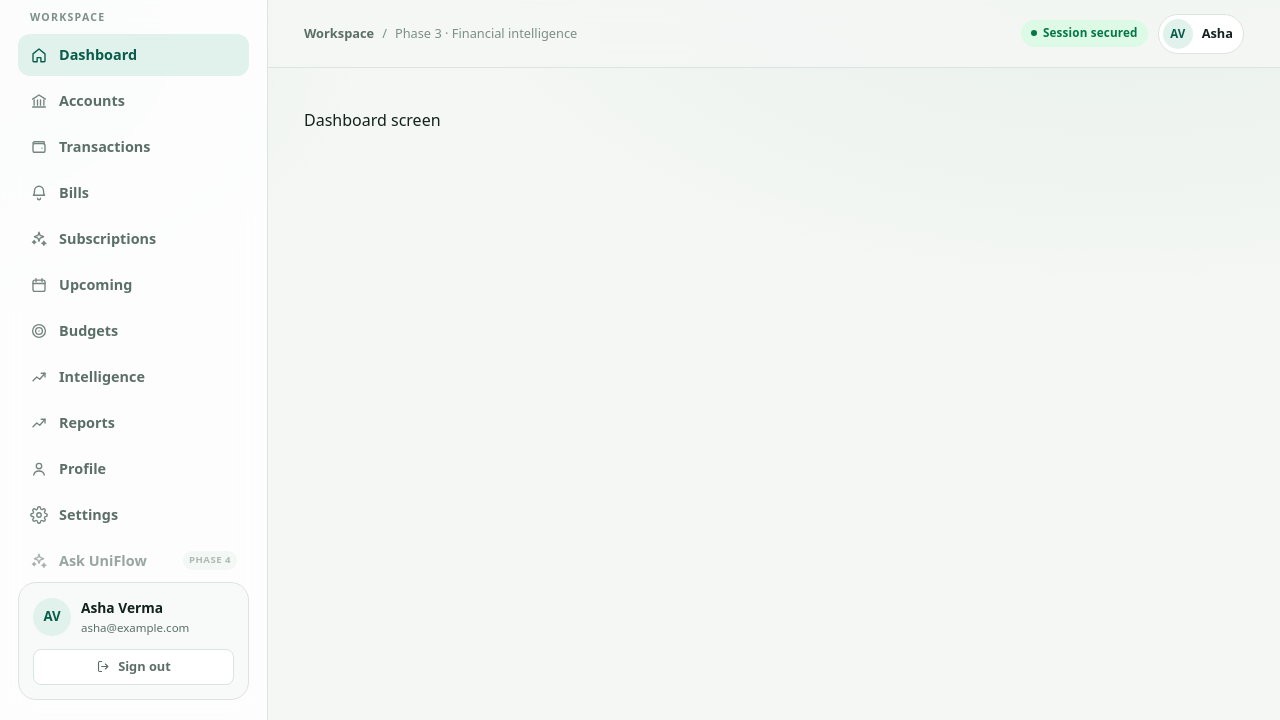
Test: app shell sign-out › keeps the session and shows an error when revocation fails
This screenshot has width=1280, height=720.
(page scrolled)
Click the button "Sign out" at x=134, y=667, box [33,649,234,685]
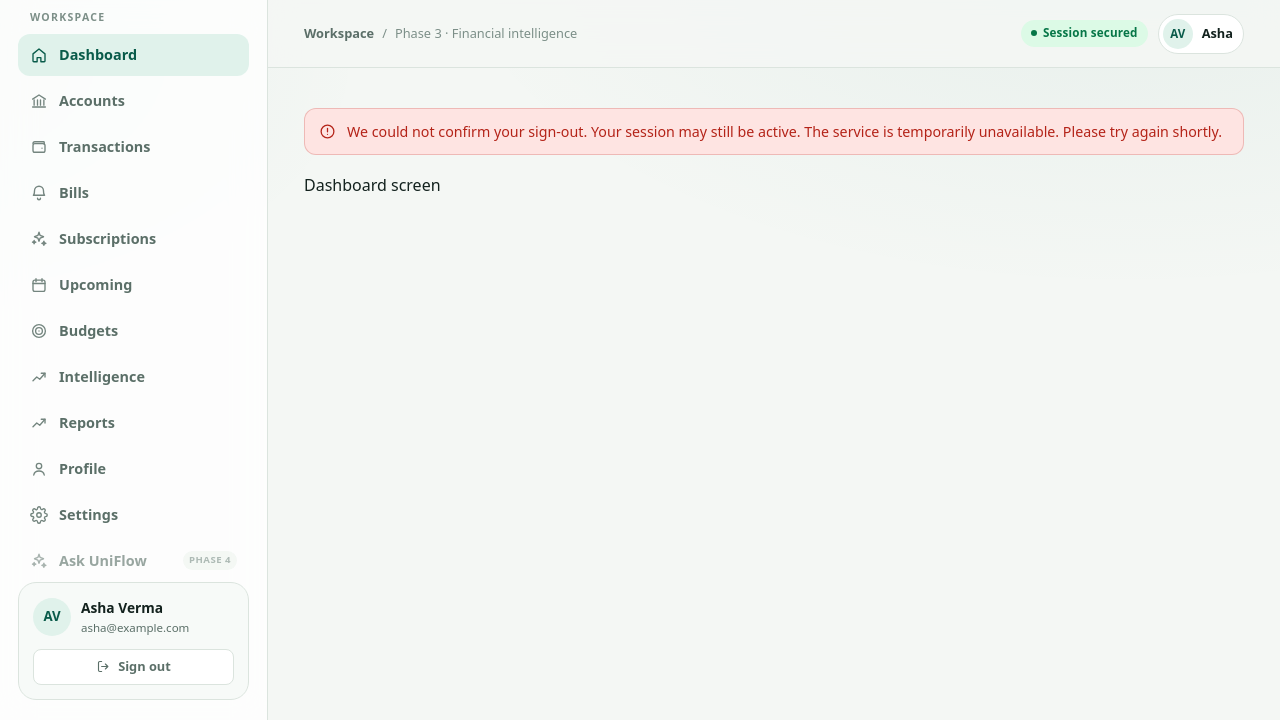
Expected: the message shows "We could not confirm your sign-out.", [347,122,1222,141]
Expected: the message shows "Your session may still be active.", [347,122,1222,141]
Expected: the message shows "The service is temporarily unavailable.", [347,122,1222,141]
